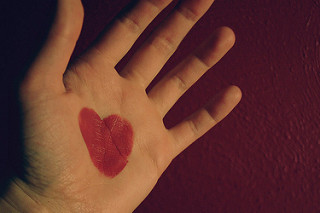palm: (31, 68, 170, 201)
